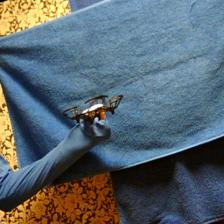drone: (61, 94, 124, 125)
